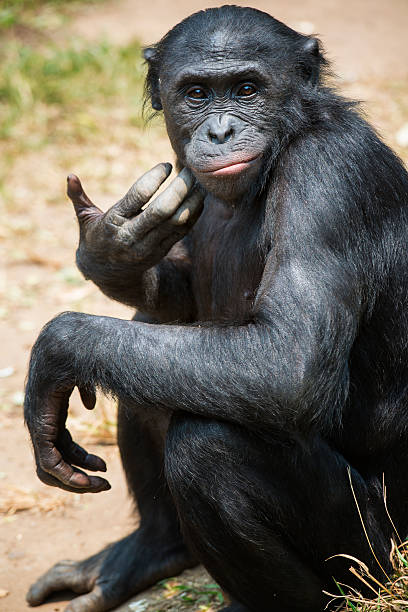chimpanzee: (120, 1, 364, 229)
